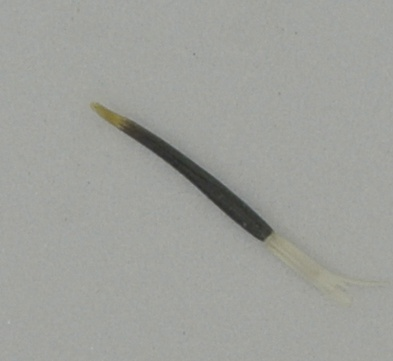เมล็ดดีเรียวยาว: (85, 96, 392, 309)
